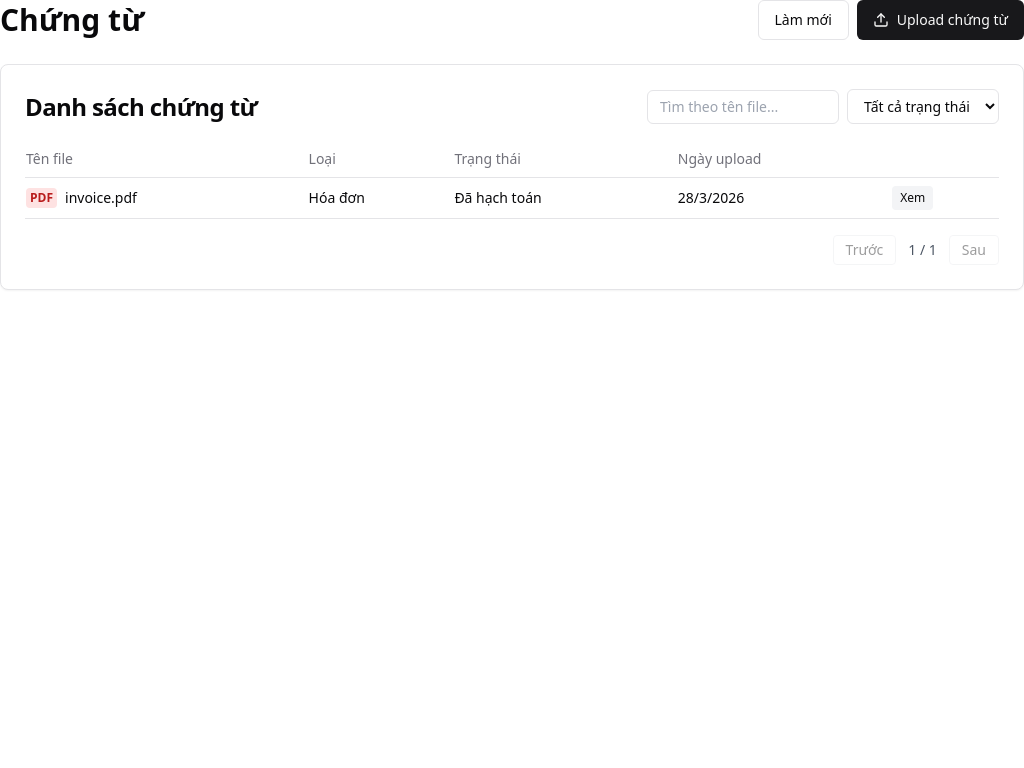
Test: DocumentsPage › opens document detail modal when Xem button is clicked
What coordinates should you click on to do the following:
click the button "Xem"
I would click on:
 (913, 198)
Its box is x1=892 y1=186 x2=933 y2=210.
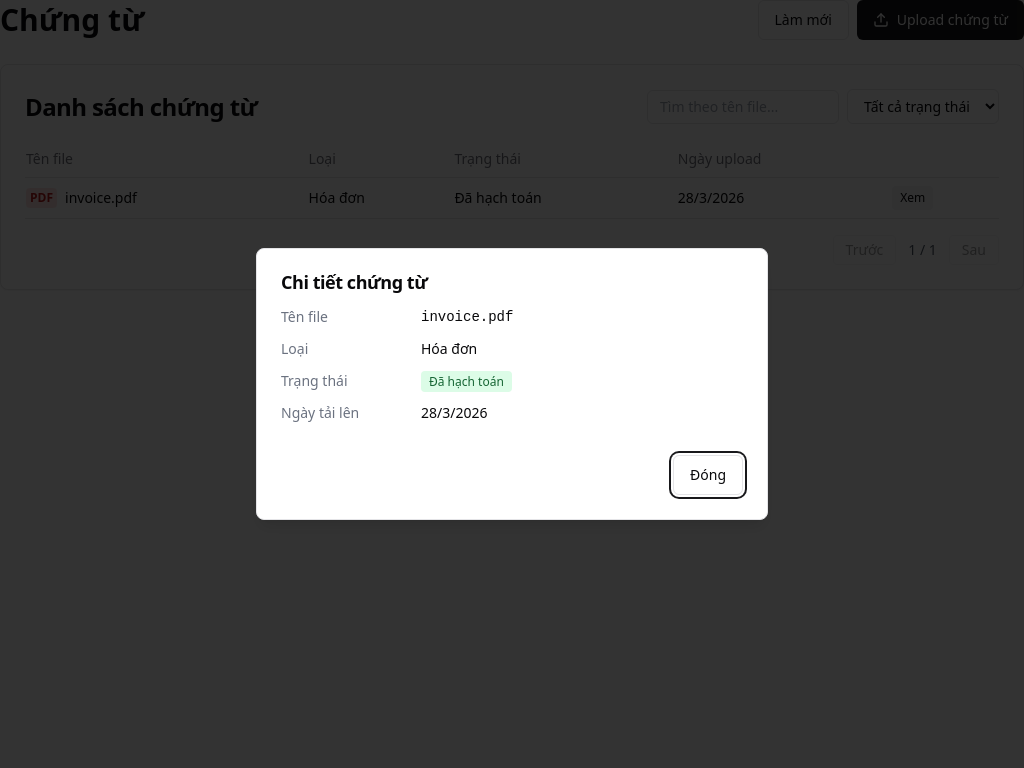
Expected: the heading "Chi tiết chứng từ" is shown, x1=281 y1=270 x2=427 y2=294
